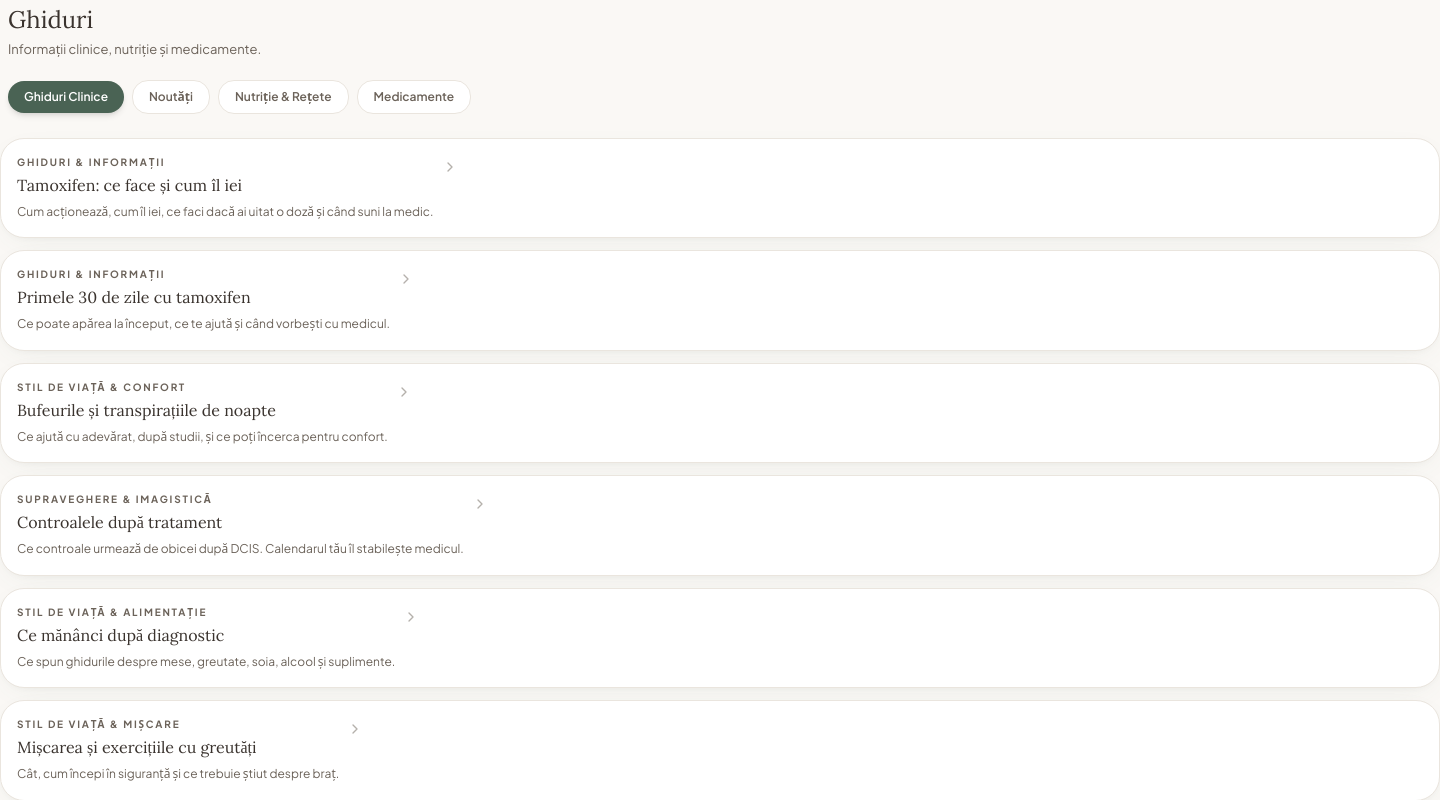
Test case: Ghiduri → Medicamente › arată lista aprobată, cu nivel în text și sursă
Click the button "Medicamente". click: coordinates (414, 96)
box: [356,80,471,114]
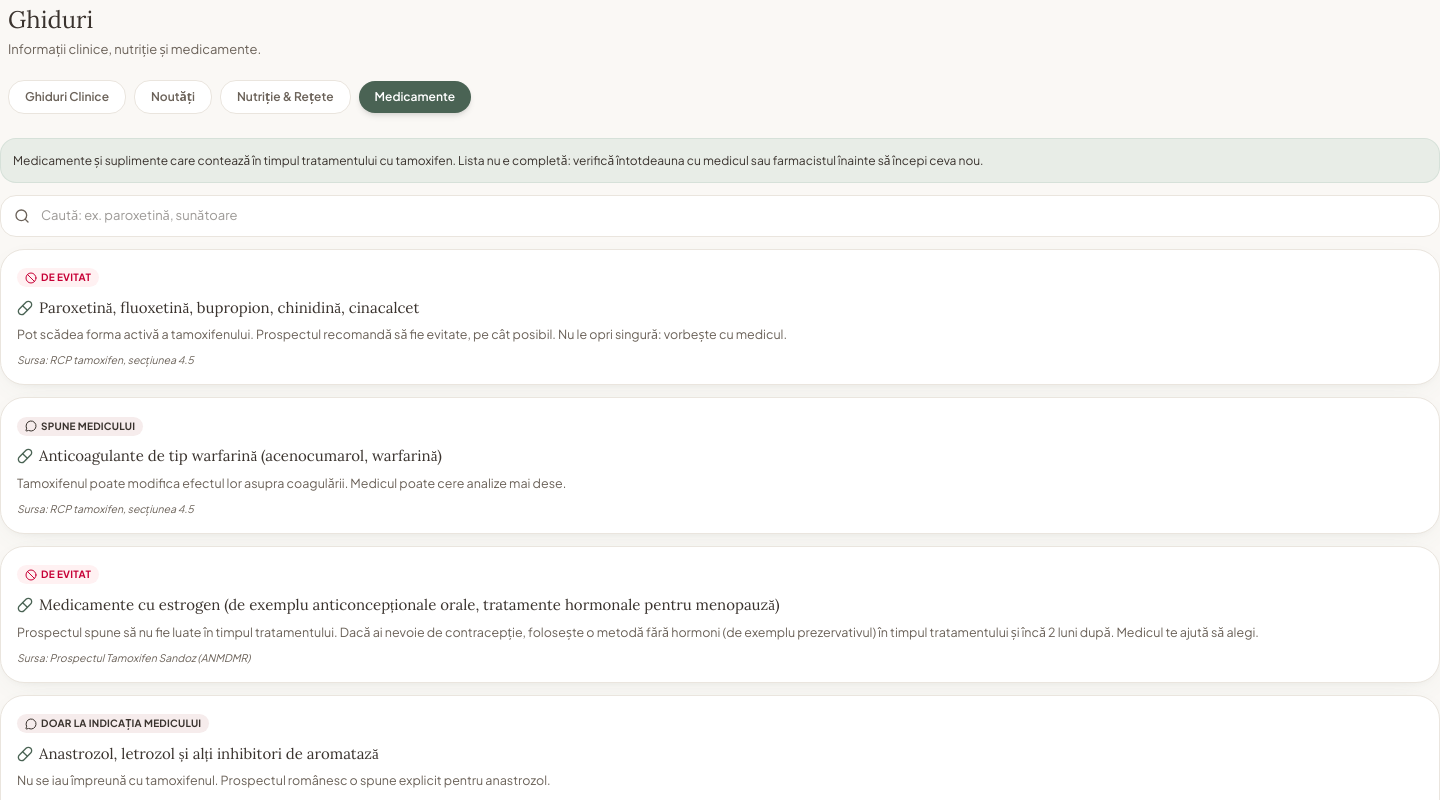
Expected: the text "verifică întotdeauna cu medicul sau farmacistul" is shown, [13,152,984,168]
Expected: the heading "Paroxetină, fluoxetină, bupropion, chinidină, cinacalcet" is shown, [17,298,419,316]
Expected: the 1st text "De evitat" is shown, [17,268,99,287]
